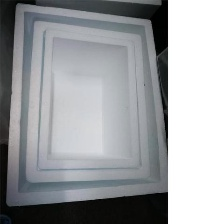foam_box: (2, 0, 167, 209)
